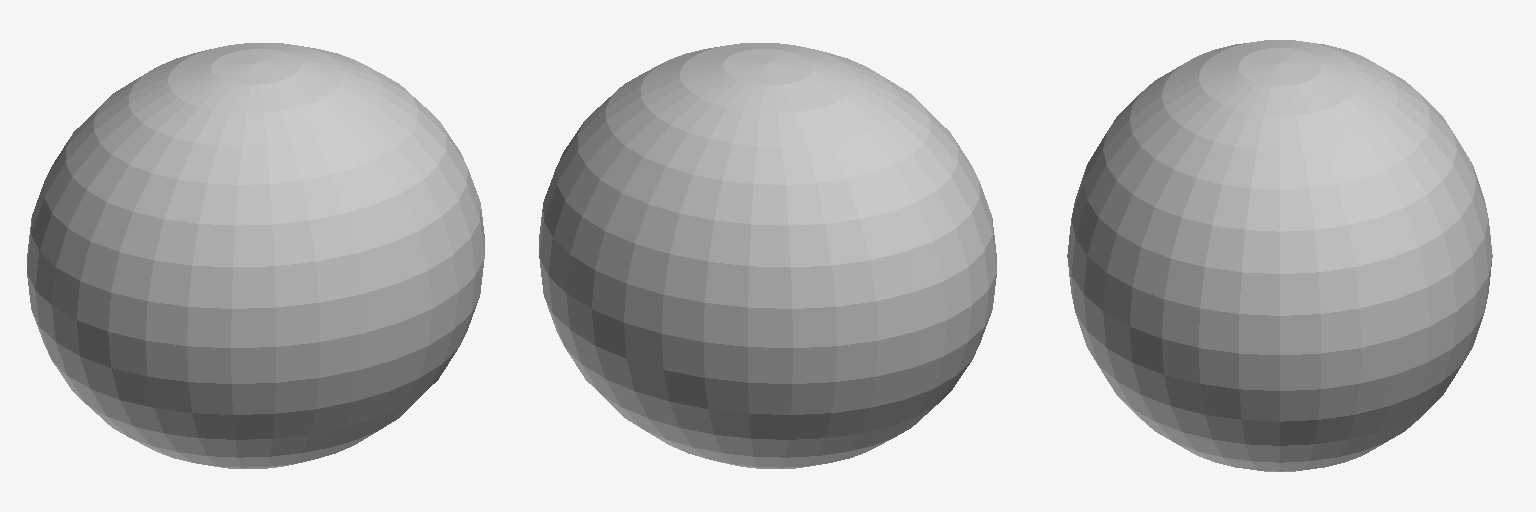
Rendered from Dinoflagellates2.obj.
The picture shows the model from 3 angles: view 1: azimuth 30°, elevation 25°; view 2: azimuth 150°, elevation 25°; view 3: azimuth 270°, elevation 25°; orthographic projection.
Parts seen in each view (by area): view 1: Dinoflagallates2; view 2: Dinoflagallates2; view 3: Dinoflagallates2.
Boxes of the visible parts, <box> form: Dinoflagallates2: <box>27,43,484,468</box>; Dinoflagallates2: <box>539,43,996,468</box>; Dinoflagallates2: <box>1067,40,1492,471</box>.
Size of the model in its own units: 47.13 by 42.57 by 42.57.